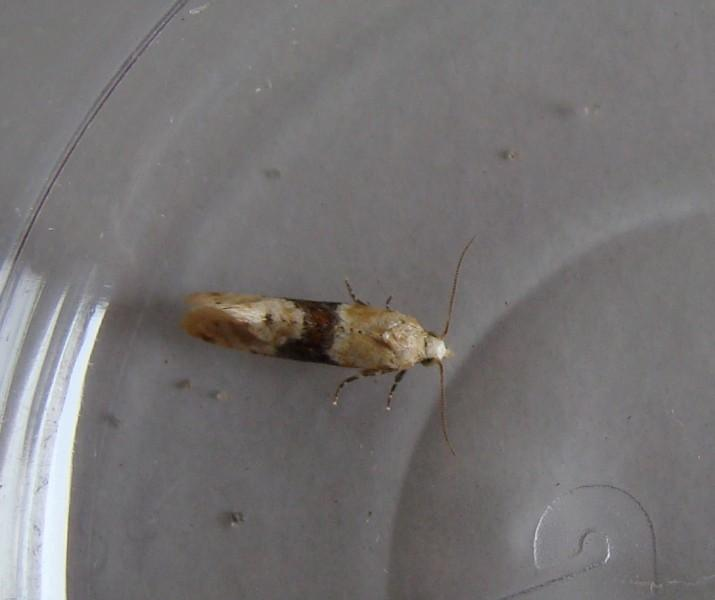Eupoecilia Ambiguella: (178, 231, 480, 458)
